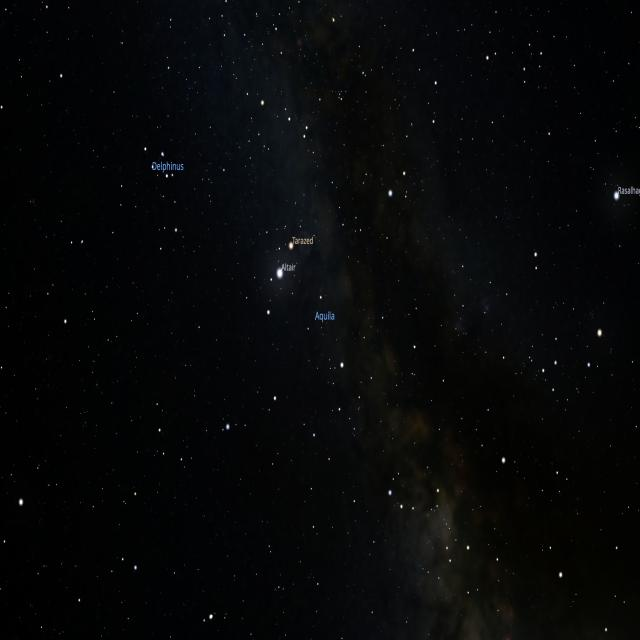Aquila: (225, 167, 408, 498)
